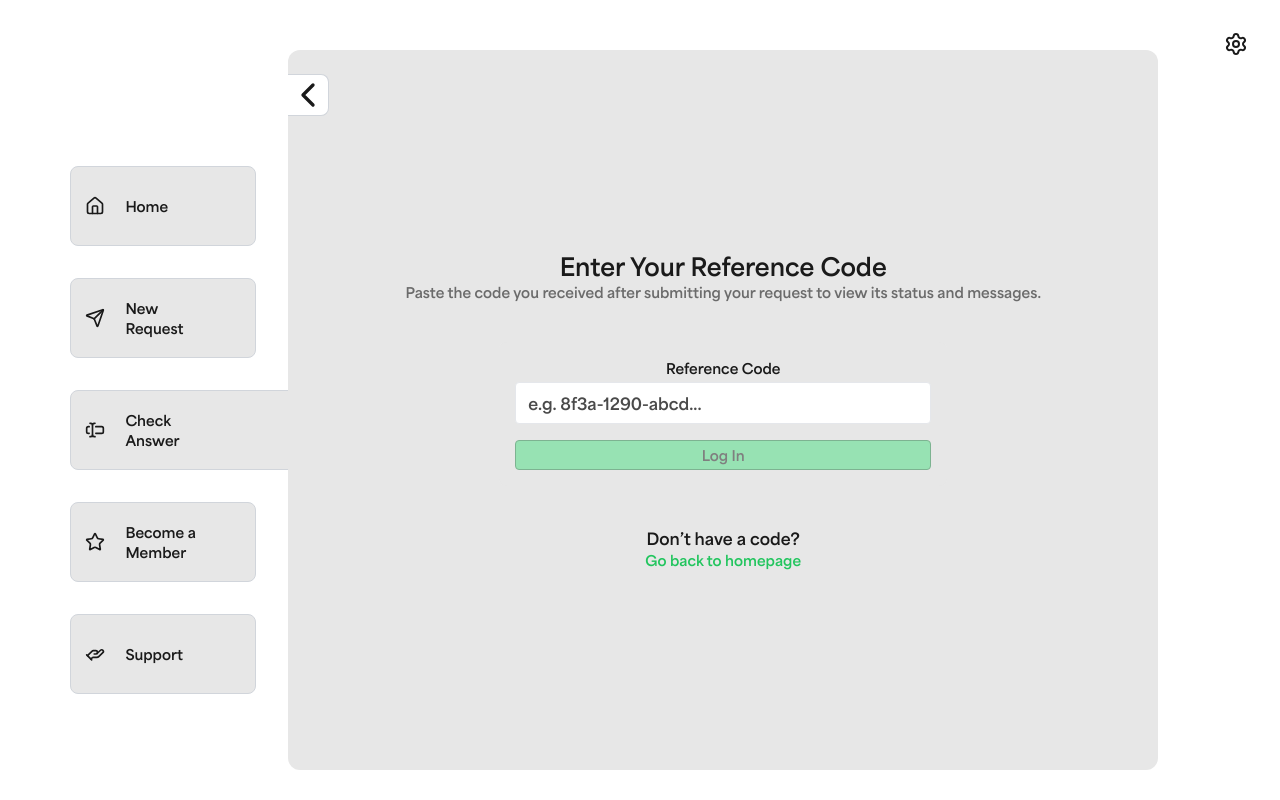
it: Login with Wrong and Correct Reference Code › should display an error message with an invalid reference code
This screenshot has width=1280, height=800.
Click the button with id "settings-button". click: coordinates (1236, 44)
box: x1=1216 y1=24 x2=1256 y2=64
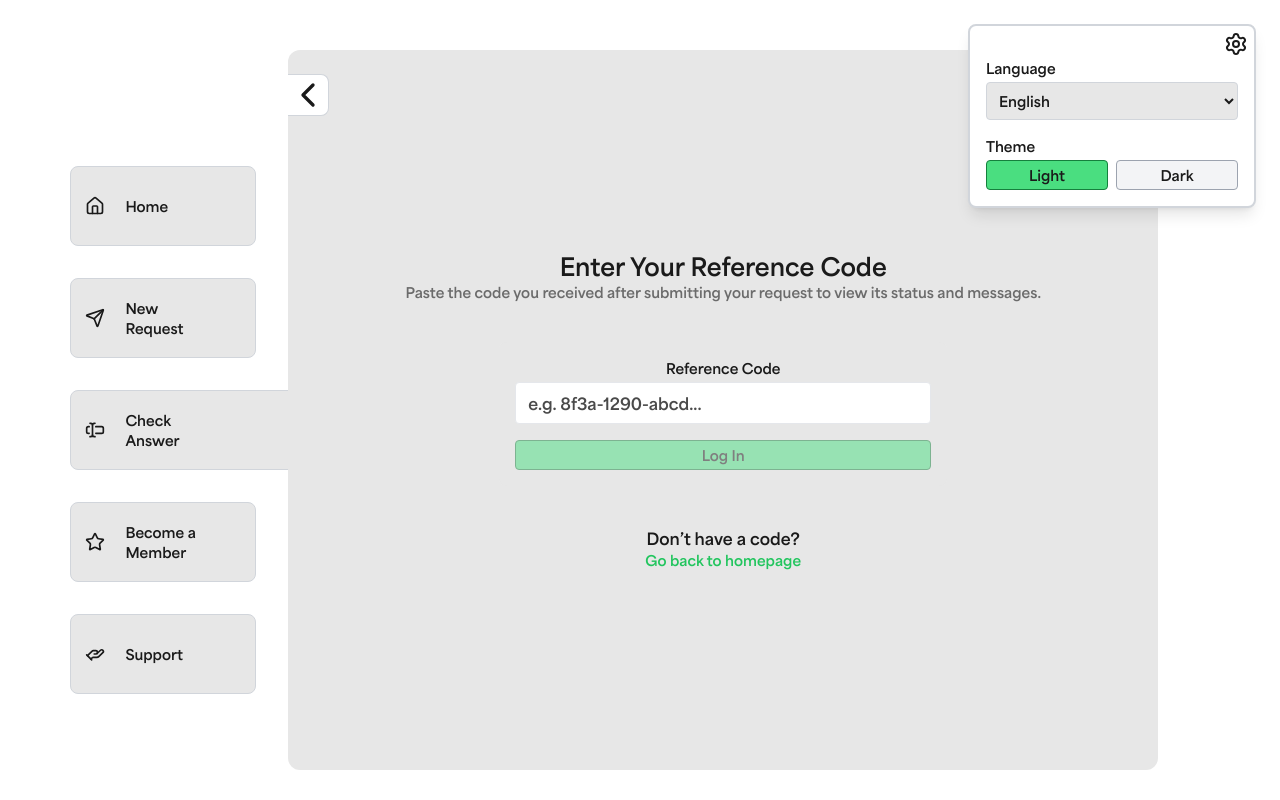
Select "English" in the dropdown. click: coordinates (1112, 101)
box: x1=986 y1=82 x2=1238 y2=120
Click the button with id "settings-button". click: coordinates (1236, 44)
box: x1=1216 y1=24 x2=1256 y2=64
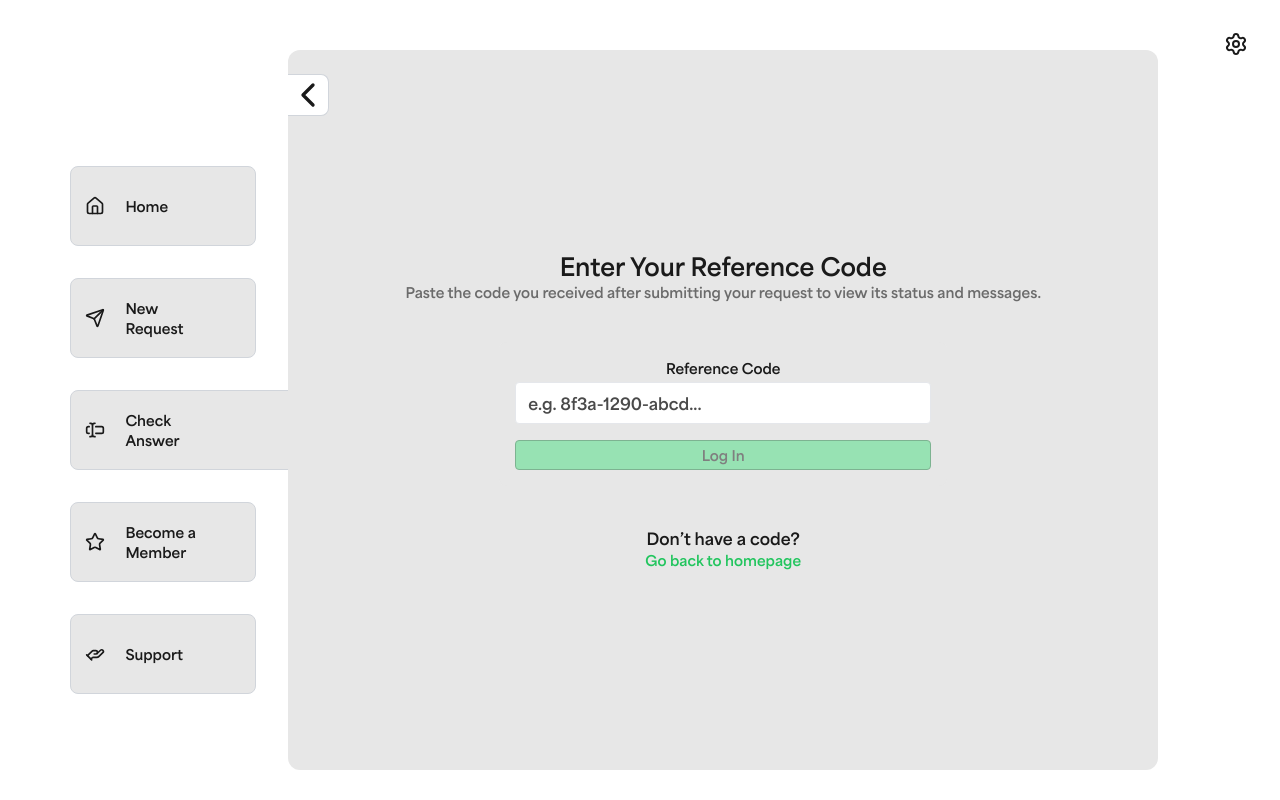
Type "wrong123" into the element with test id "ref-code-input". click: coordinates (723, 391)
box: x1=515 y1=358 x2=931 y2=424
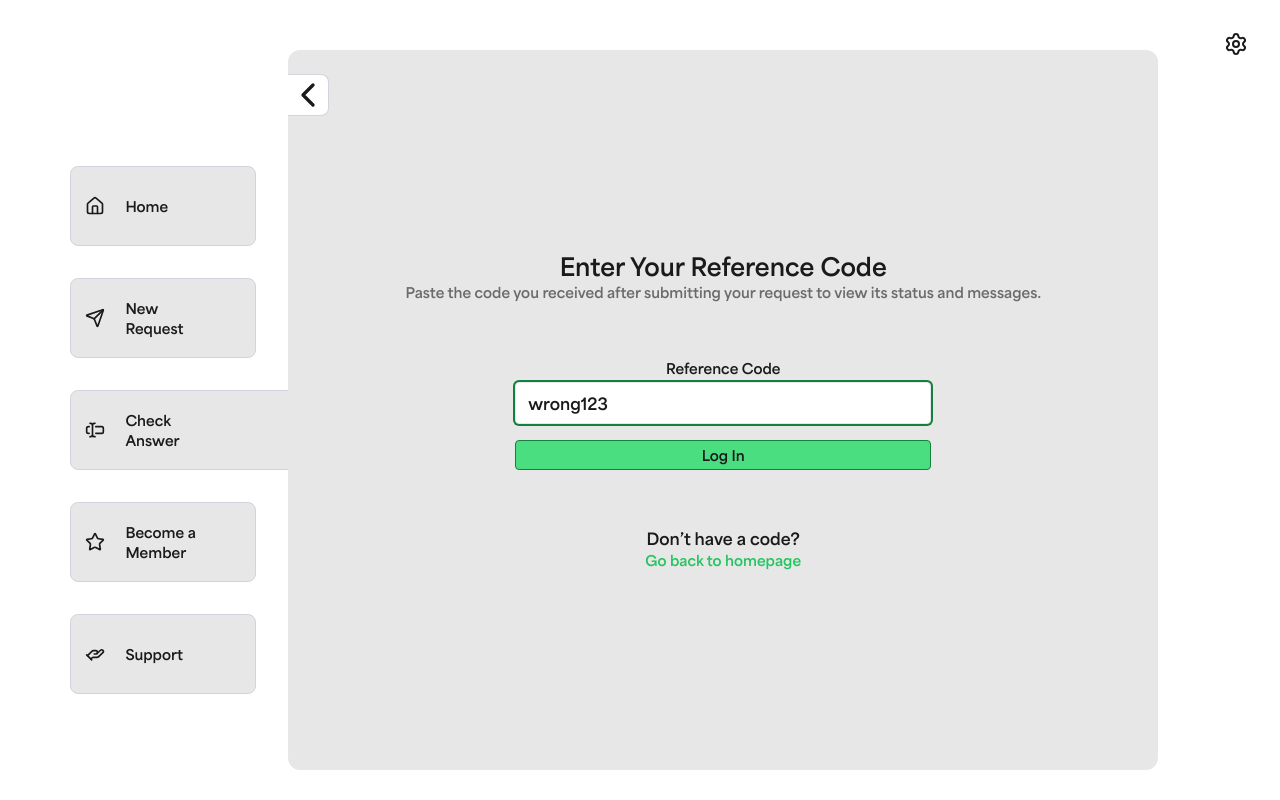
Click the button with test id "submit-button". click: coordinates (723, 455)
box: x1=515 y1=440 x2=931 y2=470
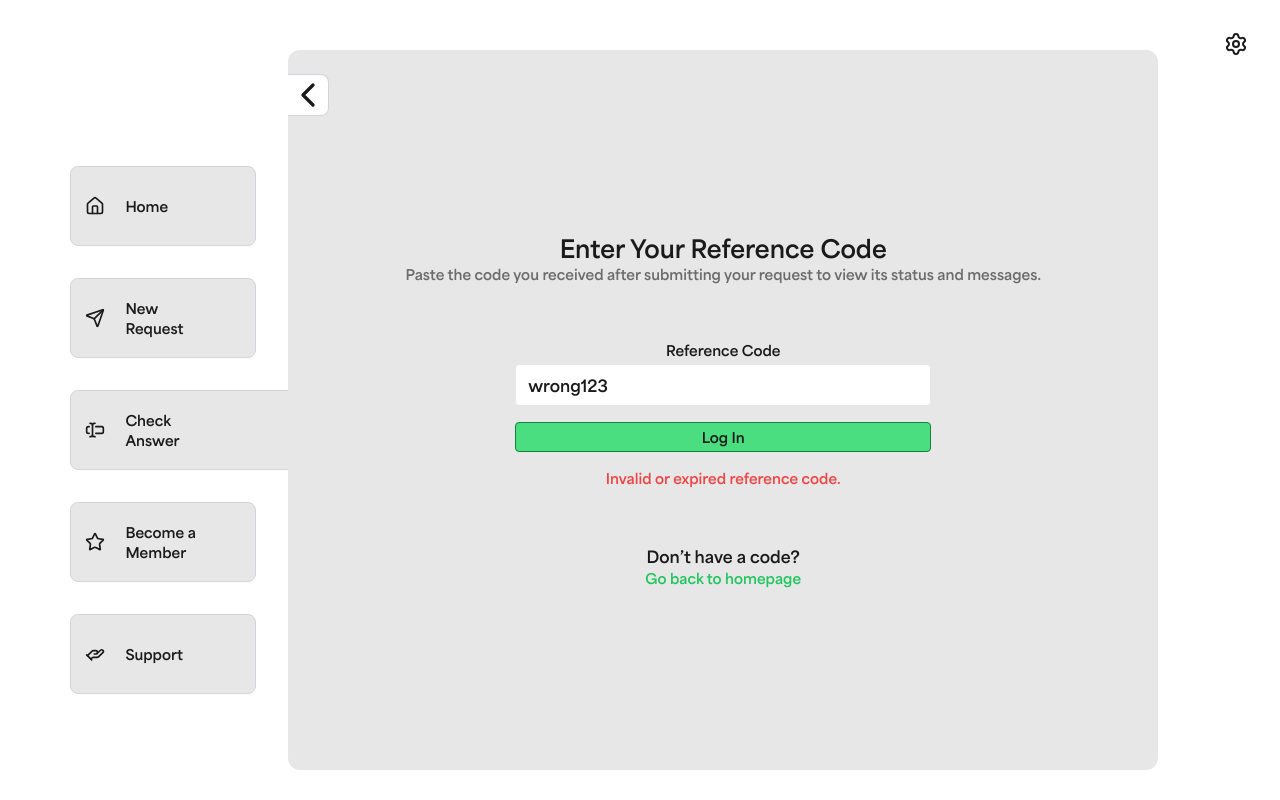
Now the text with test id "error-message" reads "Invalid or expired reference code.", box x1=606 y1=469 x2=841 y2=487
